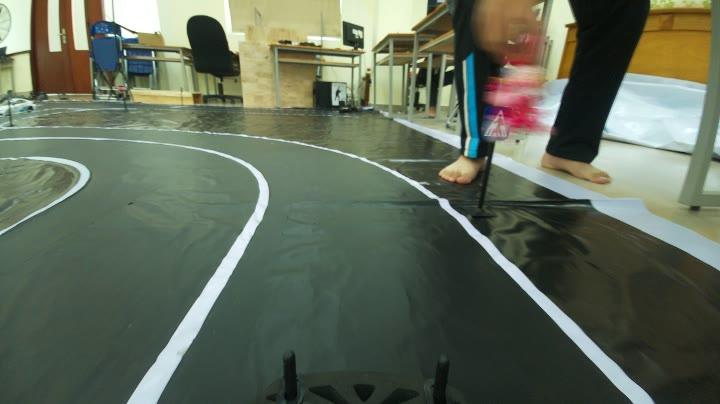crosswalk: (479, 104, 513, 141)
